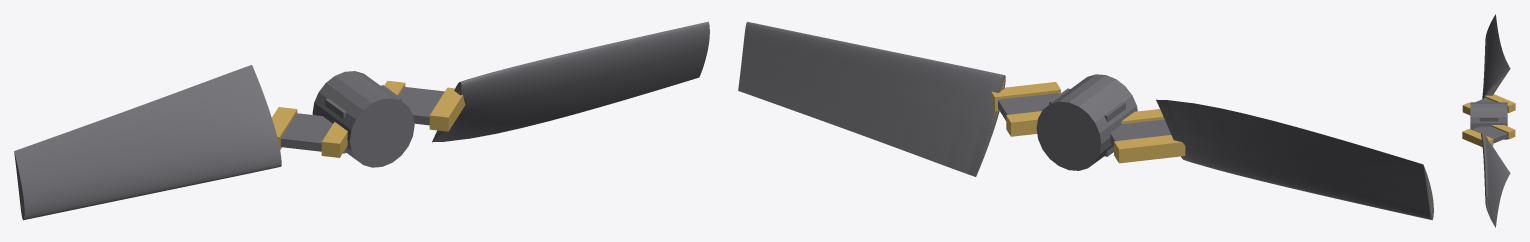
The model's file is 5in_tpu_cf_skin.glb.
The picture shows the model from 3 angles, left to right: view 1: azimuth 30°, elevation 25°; view 2: azimuth 150°, elevation 25°; view 3: azimuth 270°, elevation 25°; orthographic projection. The views are drawn at different scales.
Parts seen in each view (by area): view 1: blade2_skin, blade1_skin, hub, blade2_flex0_skin, blade1_flex0_skin, blade1_root_fitting, blade2_hub_fitting, blade2_root_fitting; view 2: blade1_skin, blade2_skin, hub, blade2_root_fitting, blade2_flex0_skin, blade1_flex0_skin, blade1_root_fitting, blade1_hub_fitting, blade2_hub_fitting; view 3: blade1_skin, blade2_skin, hub, blade1_flex0_skin, blade1_root_fitting, blade2_root_fitting, blade1_hub_fitting, blade1_spoke, blade2_hub_fitting, blade2_flex0_skin.
Part boxes in pixels (x1,y1,x2,y2): blade2_skin: [14, 65, 281, 220]; blade1_skin: [432, 21, 709, 142]; hub: [312, 71, 414, 167]; blade2_flex0_skin: [280, 113, 332, 151]; blade1_flex0_skin: [399, 87, 444, 125]; blade1_root_fitting: [429, 87, 465, 131]; blade2_hub_fitting: [321, 122, 347, 157]; blade2_root_fitting: [272, 107, 297, 149]; blade1_skin: [738, 21, 1005, 176]; blade2_skin: [1156, 99, 1433, 220]; hub: [1036, 74, 1137, 170]; blade2_root_fitting: [1114, 135, 1185, 163]; blade2_flex0_skin: [1110, 119, 1171, 146]; blade1_flex0_skin: [998, 93, 1058, 120]; blade1_root_fitting: [991, 82, 1060, 111]; blade1_hub_fitting: [1006, 111, 1041, 136]; blade2_hub_fitting: [1121, 109, 1164, 124]; blade1_skin: [1481, 133, 1510, 227]; blade2_skin: [1482, 14, 1510, 98]; hub: [1470, 102, 1507, 139]; blade1_flex0_skin: [1472, 126, 1507, 143]; blade1_root_fitting: [1462, 129, 1493, 146]; blade2_root_fitting: [1484, 94, 1515, 112]; blade1_hub_fitting: [1491, 125, 1515, 139]; blade1_spoke: [1479, 117, 1498, 121]; blade2_hub_fitting: [1462, 102, 1470, 115]; blade2_flex0_skin: [1475, 98, 1495, 102].
Size of the model in its own units: 0.127 by 0.0219 by 0.0171.
